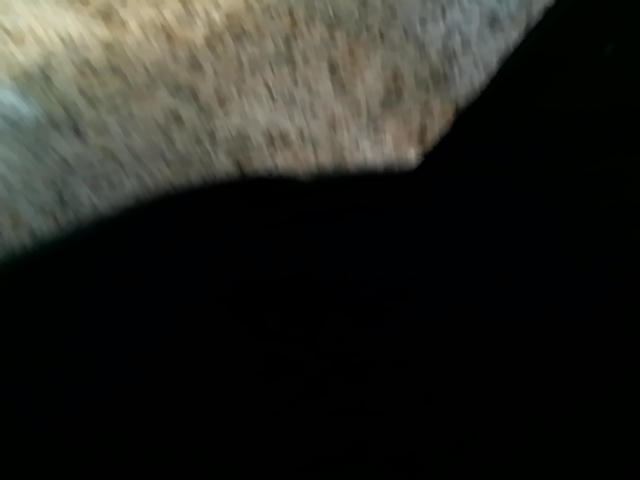hx a: (46, 0, 636, 163)
